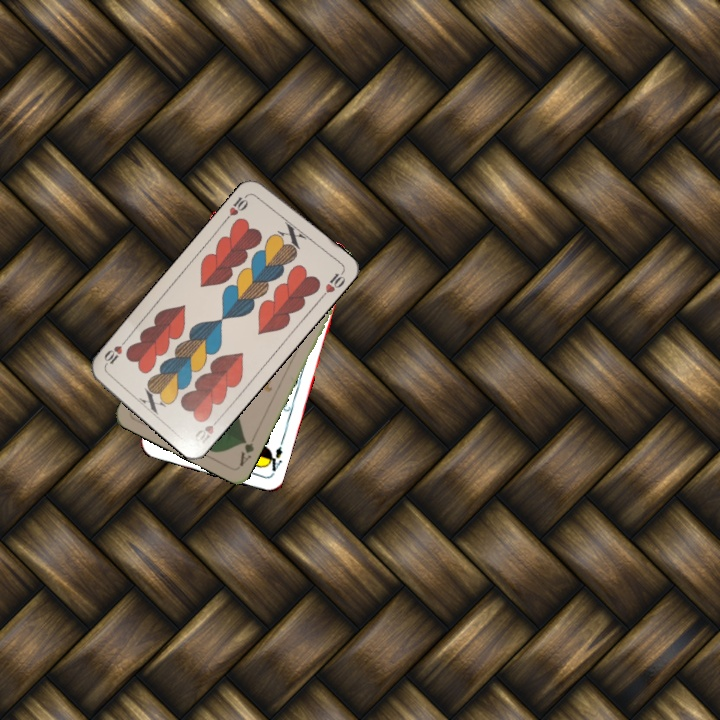EA: (262, 442, 285, 477)
GA: (235, 434, 257, 469)
H10: (190, 412, 224, 449), (221, 189, 253, 223)
